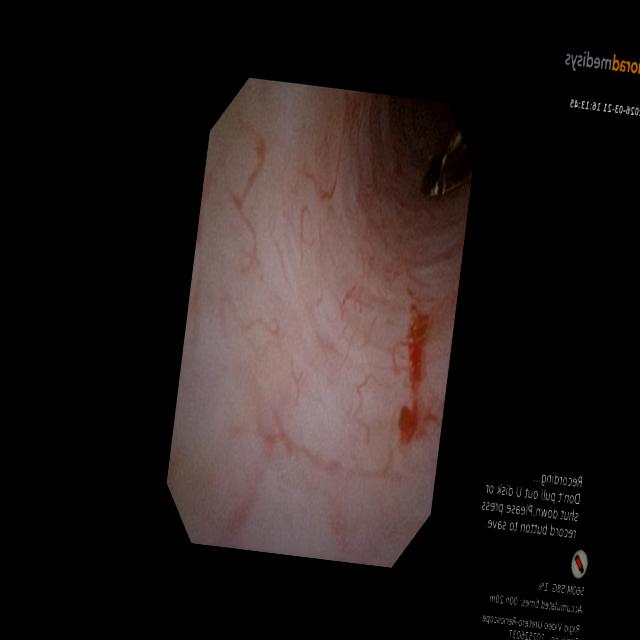stone-new: (421, 127, 473, 195)
